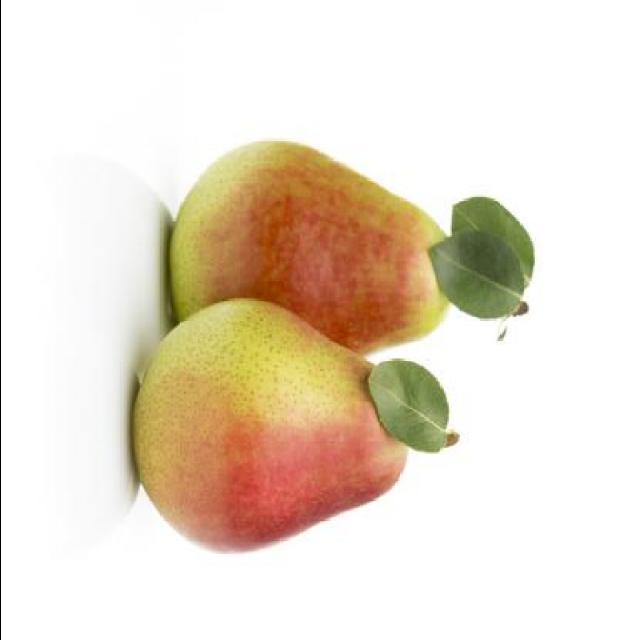Pear: (128, 293, 464, 555), (168, 137, 537, 357)
